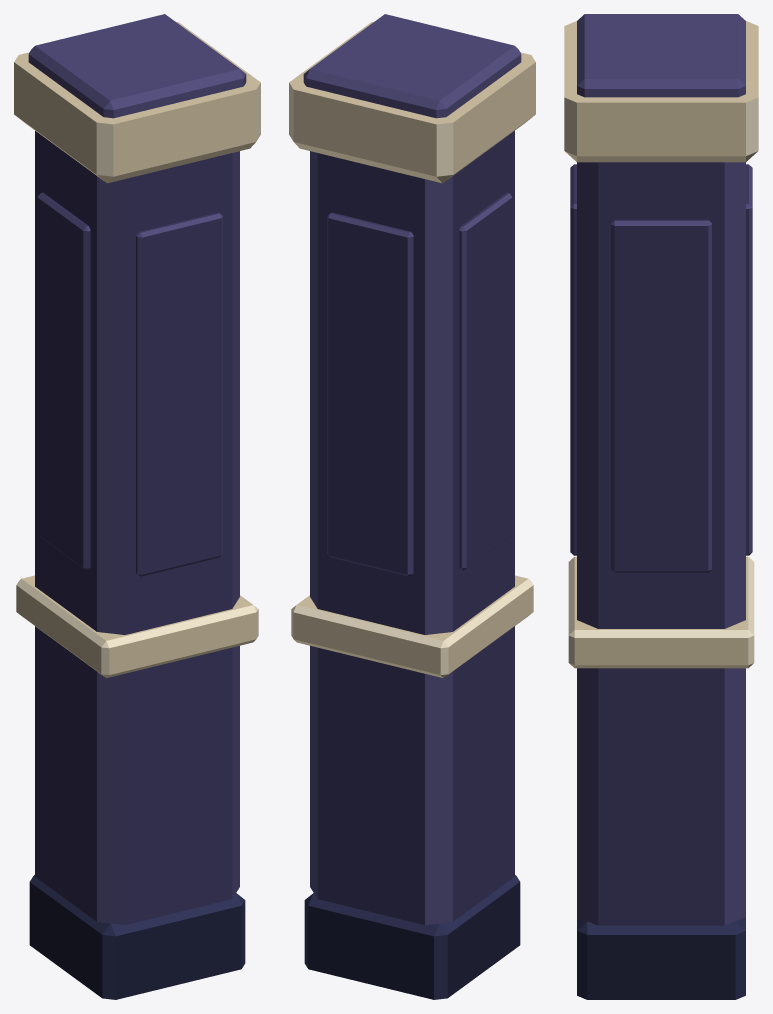
Rendered from Pillar_2x12.fbx.
3 views of the same model, side by side, from view 1: azimuth 30°, elevation 25°; view 2: azimuth 150°, elevation 25°; view 3: azimuth 270°, elevation 25° (orthographic). The views are drawn at different scales.
Visible parts, largest first — view 1: Pillar_2x12; view 2: Pillar_2x12; view 3: Pillar_2x12.
Boxes of the visible parts, bbox=[...] form: Pillar_2x12: bbox=[14, 14, 260, 999]; Pillar_2x12: bbox=[289, 14, 535, 999]; Pillar_2x12: bbox=[564, 14, 758, 999].
Size of the model in its own units: 2.3 by 12 by 2.3.
Materials: 1 (1 with a texture image).
